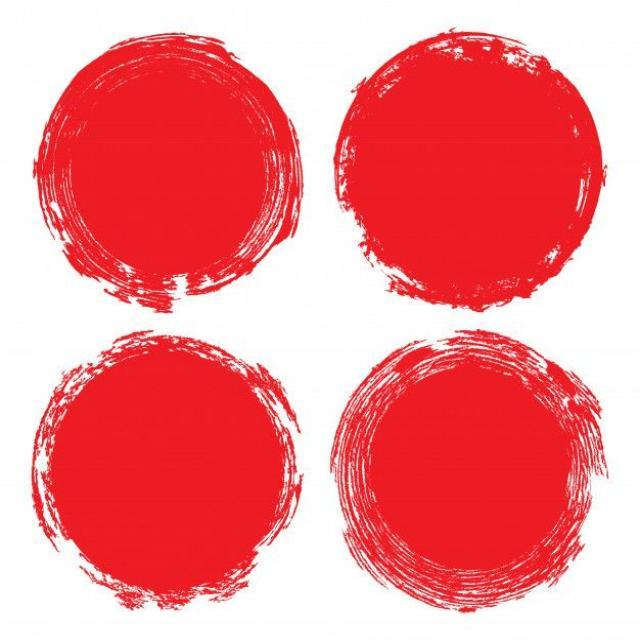Circle: (328, 330, 609, 616), (30, 329, 306, 611), (33, 33, 306, 317), (332, 31, 605, 315)
